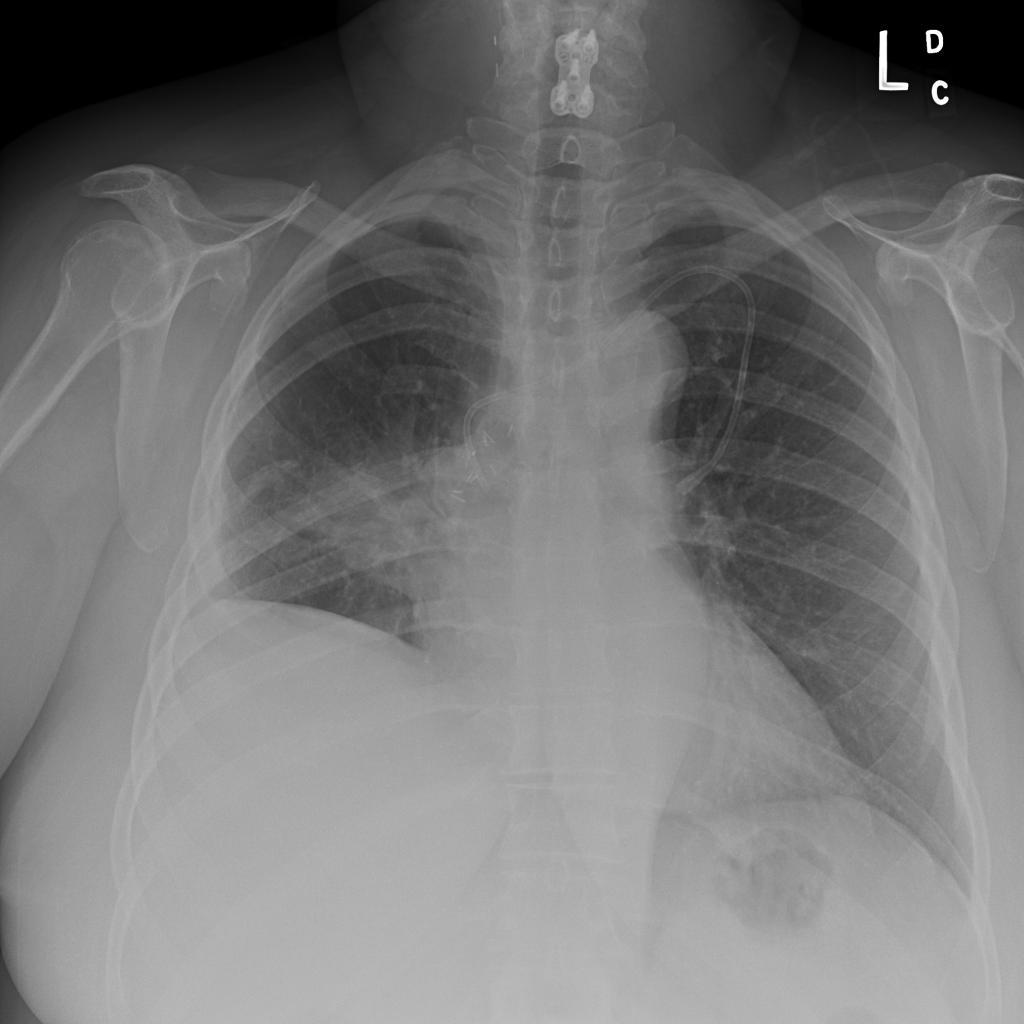Nodule: (421, 311, 452, 339), (135, 255, 164, 282), (154, 240, 183, 265)
